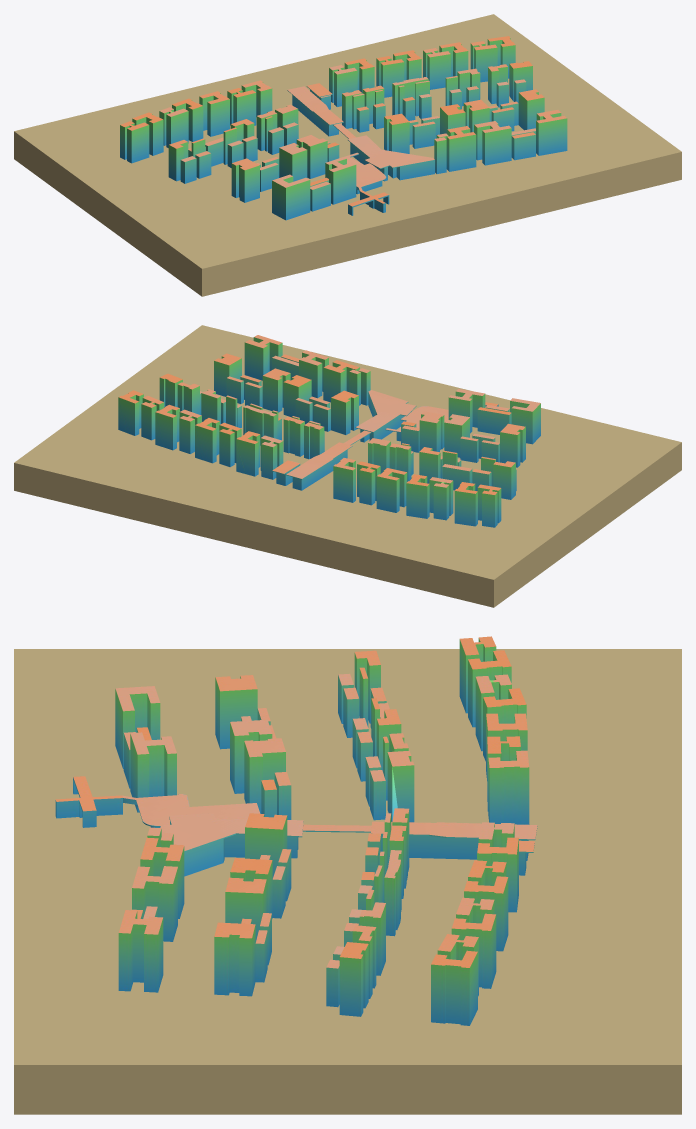
The model's file is environmental2.glb.
The picture shows the model from 3 angles, top to bottom: view 1: azimuth 30°, elevation 25°; view 2: azimuth 150°, elevation 25°; view 3: azimuth 270°, elevation 25°; orthographic projection. The views are drawn at different scales.
Visible parts, largest first — view 1: Cube, Building; view 2: Cube, Building; view 3: Cube, Building.
Part boxes in pixels (bbox=[...]): Cube: bbox=[14, 14, 681, 296]; Building: bbox=[120, 36, 567, 220]; Cube: bbox=[14, 325, 681, 607]; Building: bbox=[118, 335, 540, 527]; Cube: bbox=[14, 649, 681, 1114]; Building: bbox=[55, 636, 537, 1025].
Size of the model in its own units: 16.18 by 1.95 by 10.98.
Materials: 2 (1 with a texture image).
